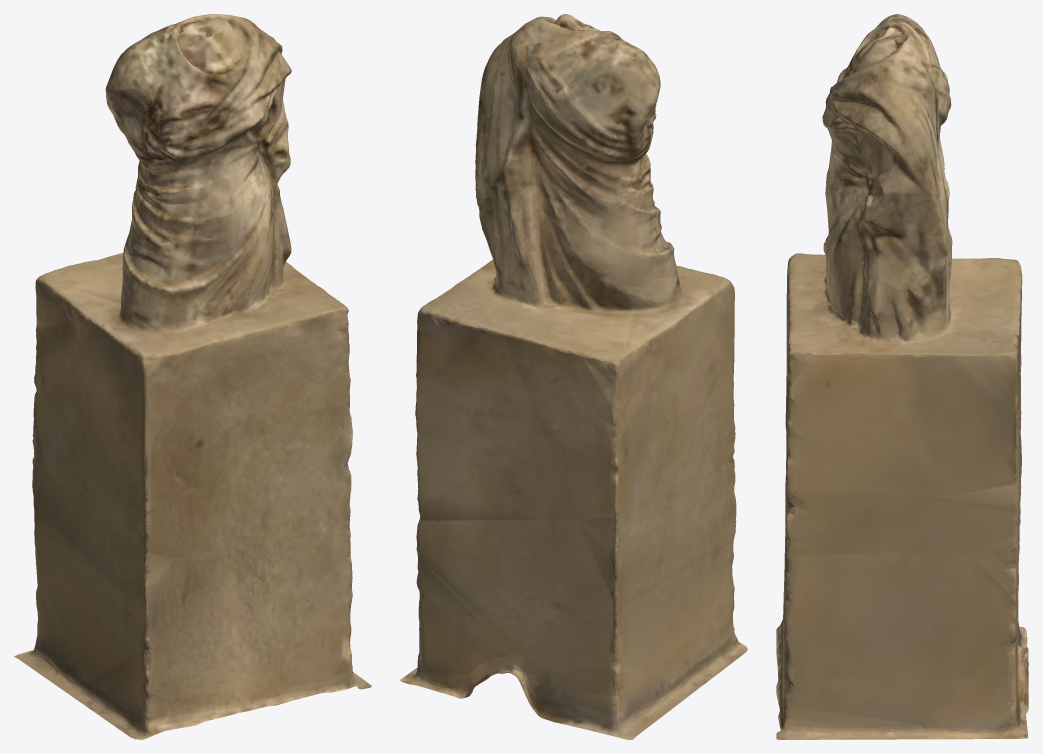
Rendered from statue-fragment.glb.
The picture shows the model from 3 angles, left to right: view 1: azimuth 30°, elevation 25°; view 2: azimuth 150°, elevation 25°; view 3: azimuth 270°, elevation 25°; orthographic projection.
Parts seen in each view (by area): view 1: Object_2; view 2: Object_2; view 3: Object_2.
Boxes of the visible parts, box(x1,y1,x2,y2) form: Object_2: box(14, 14, 371, 739); Object_2: box(400, 14, 747, 739); Object_2: box(776, 14, 1028, 739).
Bounding box in the file's own units: 0.5907 × 1.56 × 0.545.
1 material, 1 textured.
